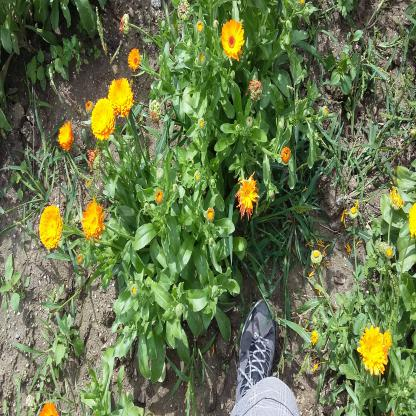marigold: (361, 325, 387, 377), (91, 99, 115, 141), (39, 204, 62, 247), (108, 78, 134, 116), (221, 19, 244, 60), (82, 203, 102, 234), (240, 179, 257, 212), (128, 49, 140, 69)
